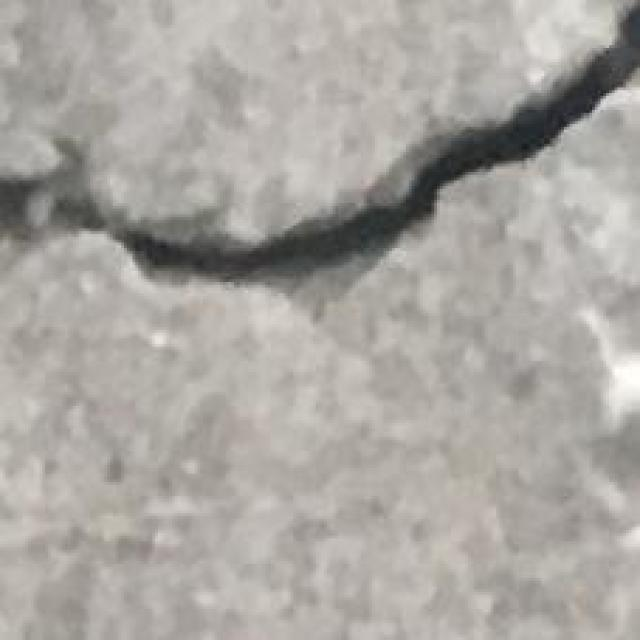Crack: (5, 5, 640, 324)
